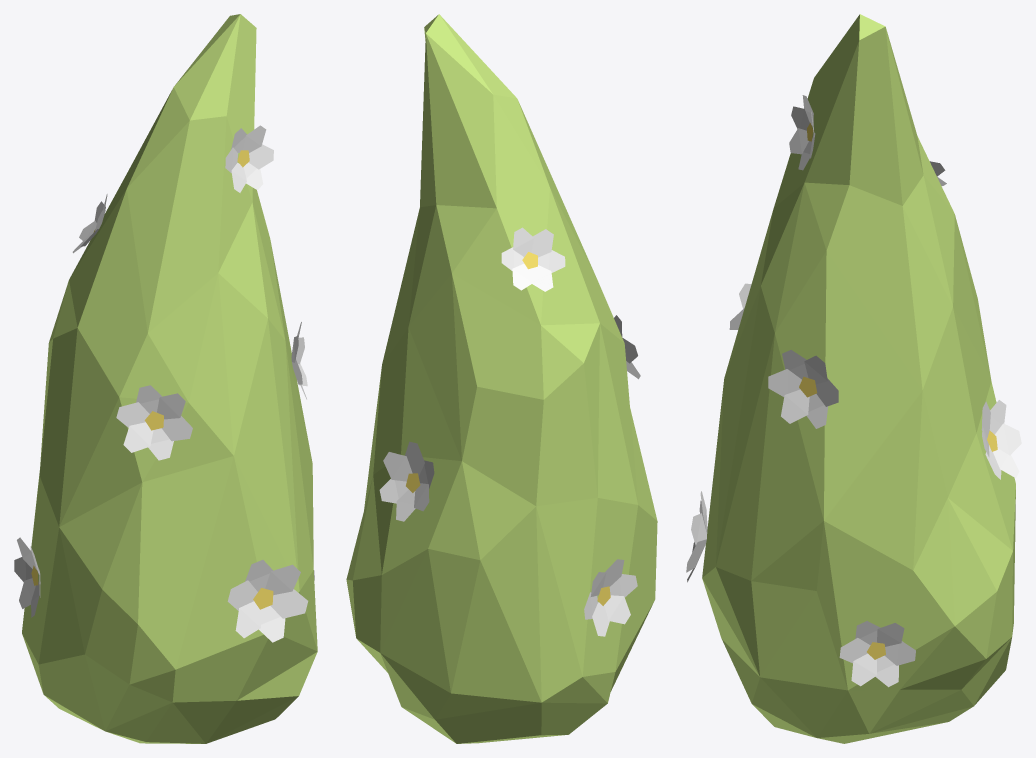
Rendered from FlowerBush_a_m_03.fbx.
3 views of the same model, side by side, from view 1: azimuth 30°, elevation 25°; view 2: azimuth 150°, elevation 25°; view 3: azimuth 270°, elevation 25° (orthographic). The views are drawn at different scales.
Parts seen in each view (by area): view 1: FlowerBush_a_m_03_LOD0; view 2: FlowerBush_a_m_03_LOD0; view 3: FlowerBush_a_m_03_LOD0.
Boxes of the visible parts, <box> form: FlowerBush_a_m_03_LOD0: <box>14,14,317,743</box>; FlowerBush_a_m_03_LOD0: <box>346,14,657,743</box>; FlowerBush_a_m_03_LOD0: <box>686,14,1021,743</box>.
Size of what is drawn, in the model's own units: 126 by 318 by 130.
